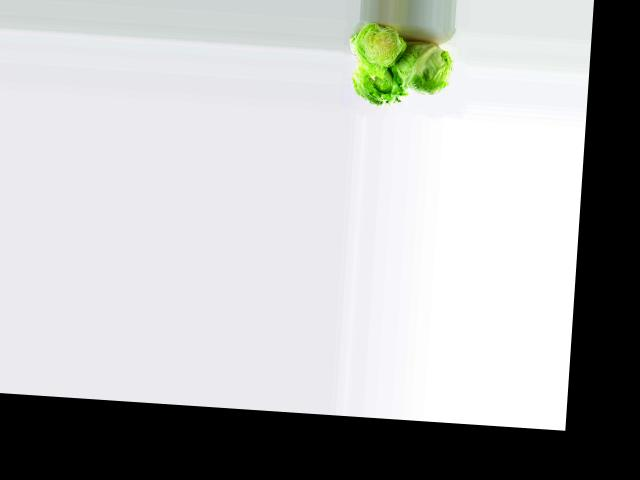lettuce: (348, 59, 412, 111)
